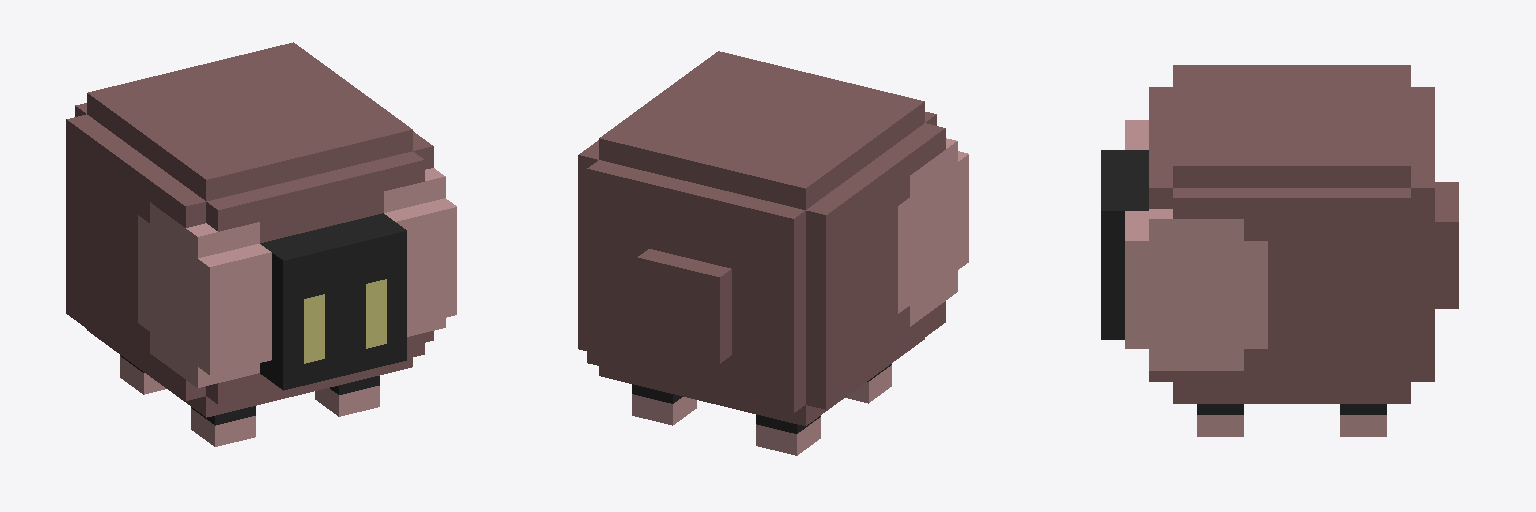
3 renders of one model, left to right at view 1: azimuth 30°, elevation 25°; view 2: azimuth 150°, elevation 25°; view 3: azimuth 270°, elevation 25°, orthographic.
Visible parts, largest first — view 1: object 1; view 2: object 1; view 3: object 1.
Part boxes in pixels (x1,y1,x2,y2): object 1: (66, 42, 456, 446); object 1: (578, 51, 968, 455); object 1: (1101, 65, 1458, 436).
Size of the model in its own units: 1.2 by 1.3 by 1.5.
1 materials, 1 textured.